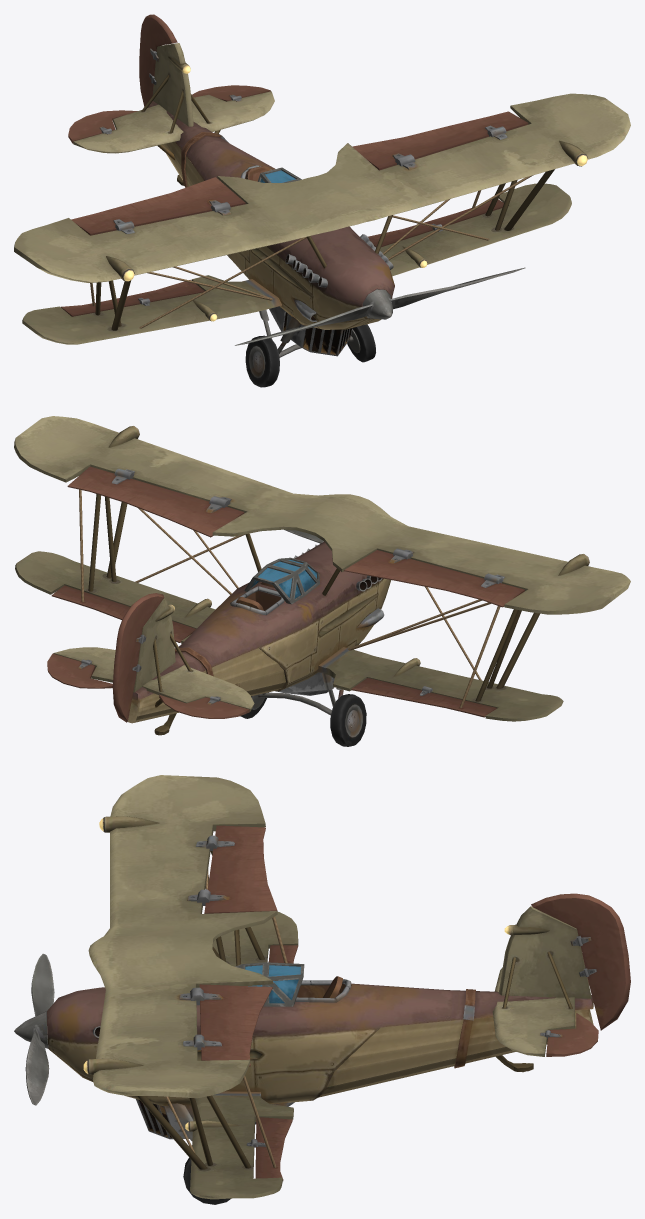
File: character3.glb
3 renders of one model, top to bottom at view 1: azimuth 30°, elevation 25°; view 2: azimuth 150°, elevation 25°; view 3: azimuth 270°, elevation 25°, orthographic. The views are drawn at different scales.
Parts seen in each view (by area): view 1: StaticPlaneParts, TopRightWing, TopLeftWing, Prop, BackWing, BottomRighWing, BottomLeftWing, polySurface385, BackLeftWing; view 2: StaticPlaneParts, TopLeftWing, TopRightWing, BackWing, BottomRighWing, BottomLeftWing, BackLeftWing, polySurface385; view 3: StaticPlaneParts, BackWing, TopRightWing, TopLeftWing, Prop, BottomLeftWing, BackLeftWing.
Boxes of the visible parts, x1,y1,x2,y2 form: StaticPlaneParts: (14, 43, 630, 387); TopRightWing: (71, 177, 245, 235); TopLeftWing: (352, 111, 528, 170); Prop: (235, 267, 525, 345); BackWing: (139, 14, 177, 106); BottomRighWing: (61, 280, 204, 316); BottomLeftWing: (368, 199, 503, 247); polySurface385: (68, 110, 137, 143); BackLeftWing: (192, 85, 270, 101); StaticPlaneParts: (14, 416, 630, 746); TopLeftWing: (67, 466, 244, 537); TopRightWing: (344, 550, 524, 607); BackWing: (112, 593, 164, 722); BottomRighWing: (351, 678, 496, 717); BottomLeftWing: (51, 585, 195, 642); BackLeftWing: (47, 653, 112, 688); polySurface385: (159, 694, 249, 718); StaticPlaneParts: (47, 775, 593, 1204); BackWing: (531, 893, 630, 1030); TopRightWing: (204, 825, 277, 913); TopLeftWing: (199, 984, 272, 1066); Prop: (14, 953, 54, 1105); BottomLeftWing: (255, 1117, 292, 1180); BackLeftWing: (546, 1013, 598, 1056).
Bounding box in the file's own units: 0.1461 × 0.0582 × 0.114.
Materials: 1 (1 with a texture image).
